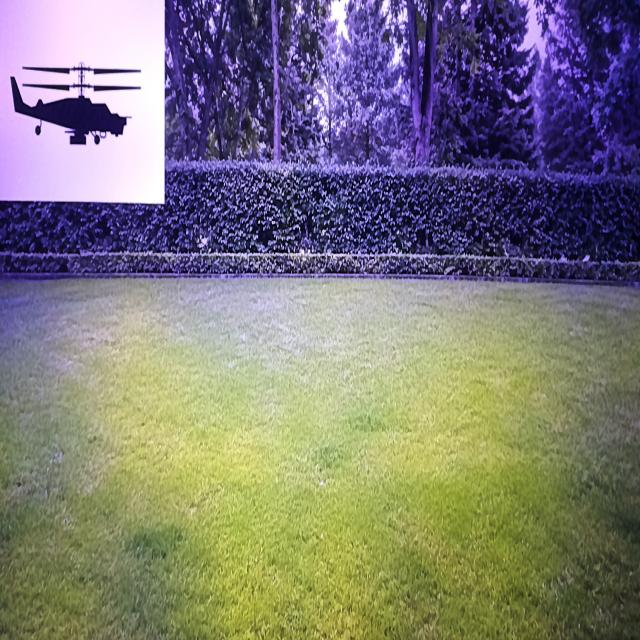Ka-52 Enemy: (11, 63, 139, 144)
